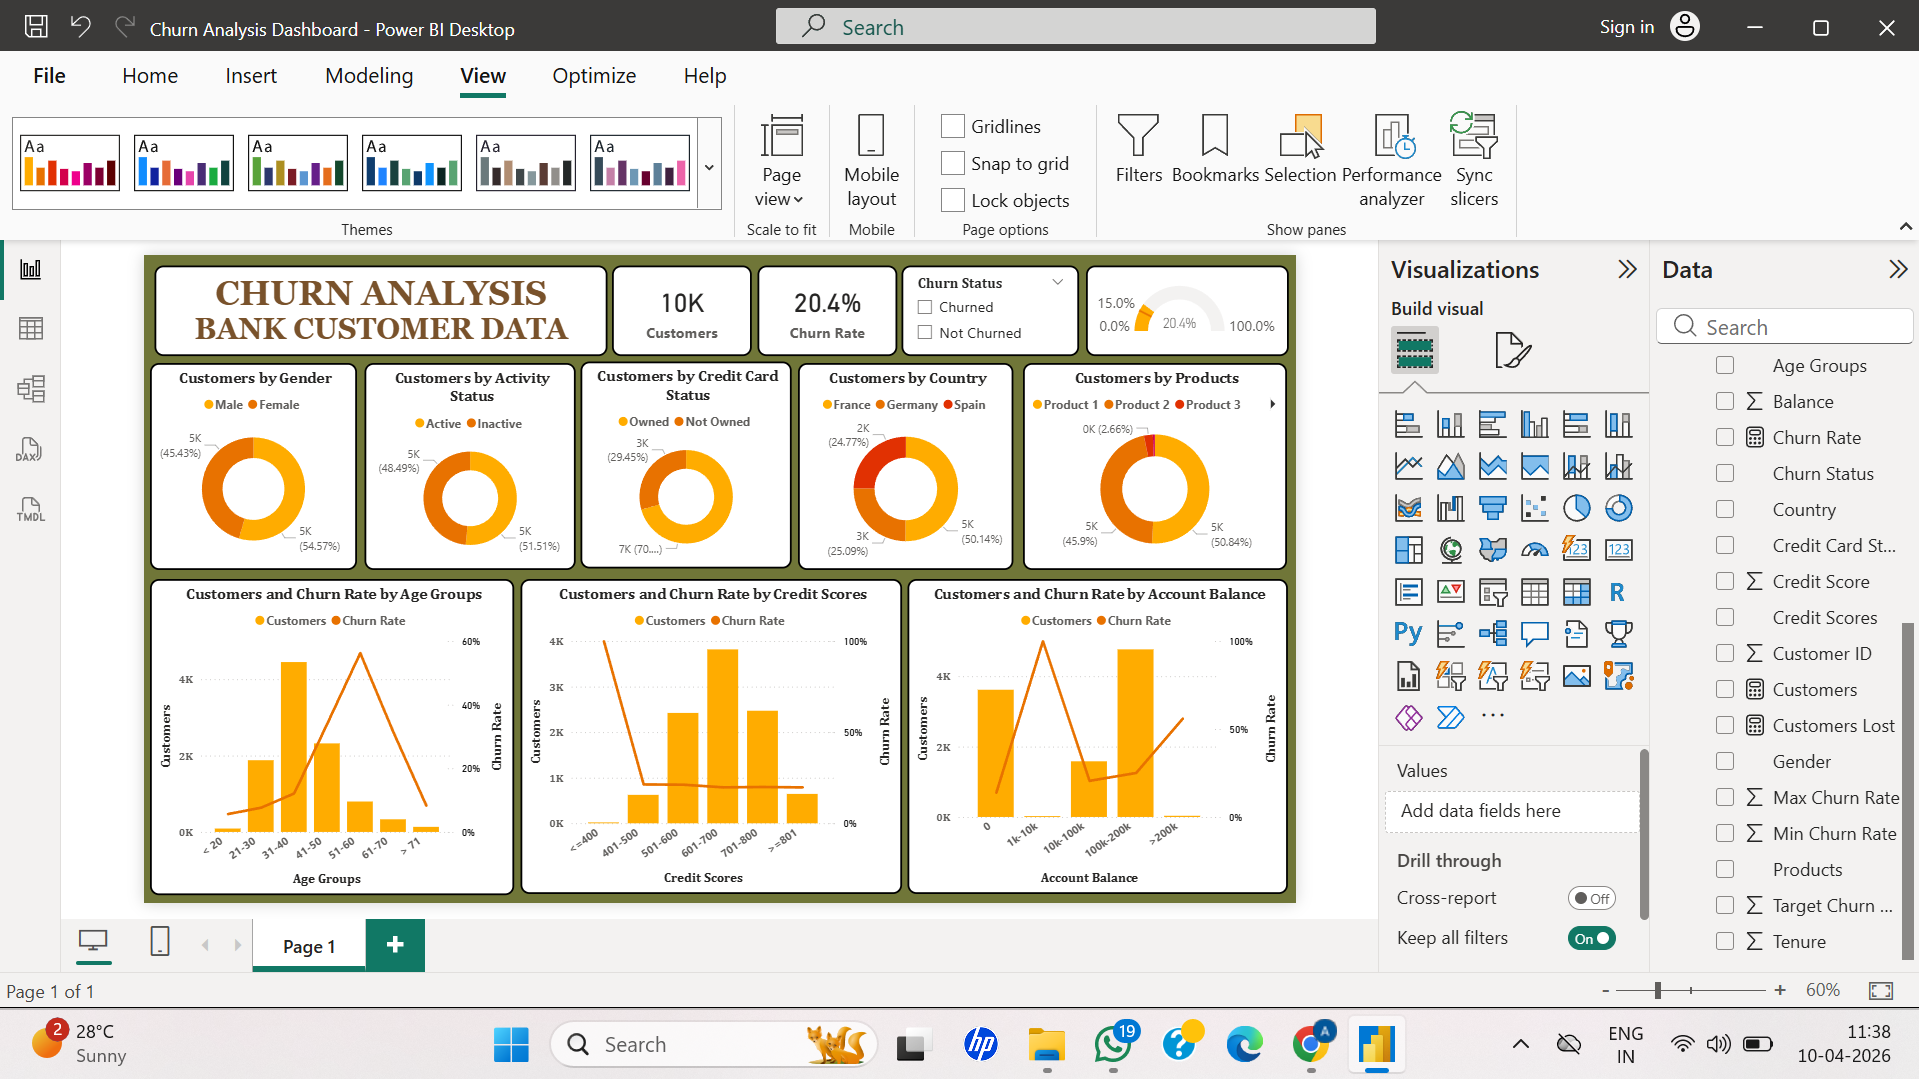

What the dashboard file says about the page in this screenshot:
{"tool":"powerbi","page":{"name":"Page 1","canvas":[1280,720],"ordinal":0},"visuals":[{"type":"card","fields":{"Values":["Customer Data.Customers"]},"box":[519.8,11.3,155.4,100.4],"z":0},{"type":"card","fields":{"Values":["Customer Data.Churn Rate"]},"box":[681.7,11.3,155.4,100.4],"z":1000},{"type":"donutChart","fields":{"Category":["Customer Data.Gender"],"Y":["Customer Data.Customers"]},"box":[6.5,119.8,229.9,229.9],"z":2000},{"type":"donutChart","fields":{"Y":["Customer Data.Customers"],"Category":["Customer Data.Activity Status"]},"box":[244.5,119.8,234.8,229.9],"z":3000},{"type":"donutChart","fields":{"Y":["Customer Data.Customers"],"Category":["Customer Data.Credit Card Status"]},"box":[485.8,118.2,234.8,229.9],"z":4000},{"type":"donutChart","fields":{"Y":["Customer Data.Customers"],"Category":["Customer Data.Country"]},"box":[727,119.8,239.6,229.9],"z":5000},{"type":"donutChart","fields":{"Y":["Customer Data.Customers"],"Category":["Customer Data.Products"]},"box":[976.4,119.8,293.1,229.9],"z":6000},{"type":"lineStackedColumnComboChart","fields":{"Category":["Age Groups.Age Groups"],"Y":["Customer Data.Customers"],"Y2":["Customer Data.Churn Rate"]},"box":[6.5,359.5,404.8,351.4],"z":7000},{"type":"lineStackedColumnComboChart","fields":{"Y":["Customer Data.Customers"],"Y2":["Customer Data.Churn Rate"],"Category":["Credit Scores Groups.Credit Scores"]},"box":[417.8,359.5,424.2,349.8],"z":8000},{"type":"lineStackedColumnComboChart","fields":{"Y":["Customer Data.Customers"],"Y2":["Customer Data.Churn Rate"],"Category":["Account Balance Groups.Account Balance"]},"box":[848.5,359.5,422.6,349.8],"z":9000},{"type":"slicer","fields":{"Values":["Customer Data.Churn Status"]},"box":[842,11.3,197.5,100.4],"z":10000},{"type":"gauge","fields":{"Y":["Customer Data.Churn Rate"],"MinValue":["Min(Customer Data.Min Churn Rate)"],"MaxValue":["Max(Customer Data.Max Churn Rate)"],"TargetValue":["Max(Customer Data.Target Churn Rate)"]},"box":[1046,11.3,225.1,100.4],"z":11000},{"type":"textbox","box":[11.3,11.3,503.6,100.4],"z":12000}]}

Visuals, with their boxes on the page's 1280x720 design canvas (x1, y1, x2, y2). These are canvas units, not pixel positions in the 1919x1079 screenshot, which may show the page scaled, cropped or inside an application window:
card - Customer Data.Customers: box=[520, 11, 675, 112]
card - Customer Data.Churn Rate: box=[682, 11, 837, 112]
donutChart - Customer Data.Gender x Customer Data.Customers: box=[6, 120, 236, 350]
donutChart - Customer Data.Customers x Customer Data.Activity Status: box=[244, 120, 479, 350]
donutChart - Customer Data.Customers x Customer Data.Credit Card Status: box=[486, 118, 721, 348]
donutChart - Customer Data.Customers x Customer Data.Country: box=[727, 120, 967, 350]
donutChart - Customer Data.Customers x Customer Data.Products: box=[976, 120, 1270, 350]
lineStackedColumnComboChart - Age Groups.Age Groups x Customer Data.Customers: box=[6, 360, 411, 711]
lineStackedColumnComboChart - Customer Data.Customers x Customer Data.Churn Rate: box=[418, 360, 842, 709]
lineStackedColumnComboChart - Customer Data.Customers x Customer Data.Churn Rate: box=[848, 360, 1271, 709]
slicer - Customer Data.Churn Status: box=[842, 11, 1040, 112]
gauge - Customer Data.Churn Rate x Min(Customer Data.Min Churn Rate): box=[1046, 11, 1271, 112]
textbox: box=[11, 11, 515, 112]
